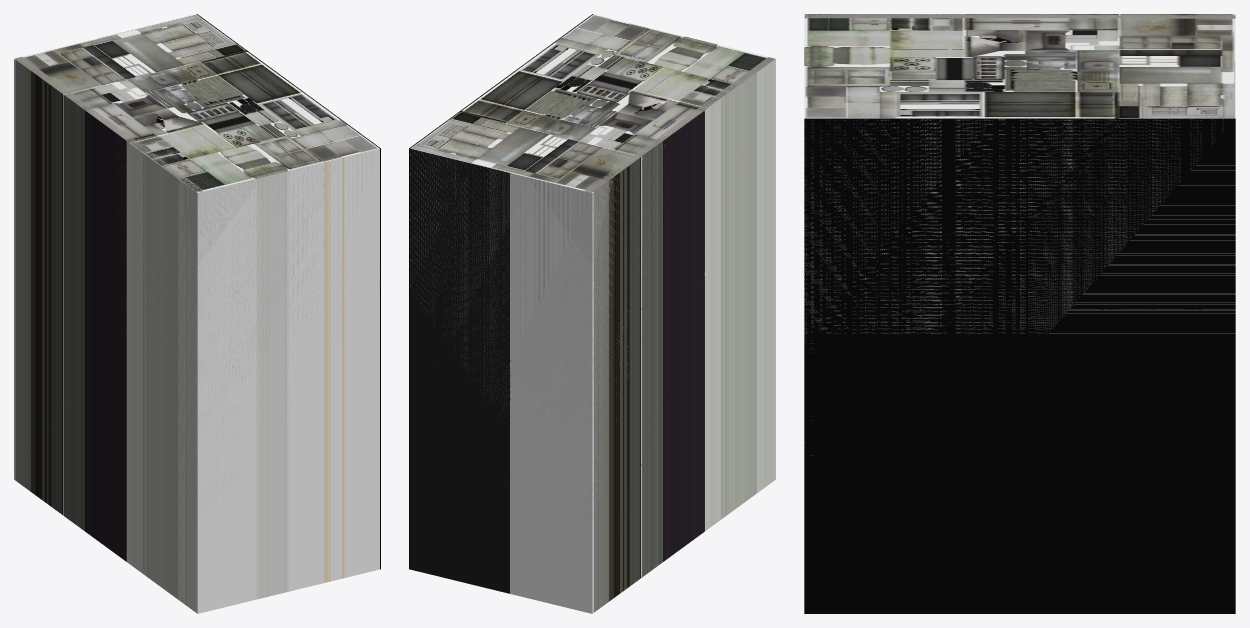
File: counter_top_04.DAE
The picture shows the model from 3 angles, left to right: view 1: azimuth 30°, elevation 25°; view 2: azimuth 150°, elevation 25°; view 3: azimuth 270°, elevation 25°; orthographic projection. The views are drawn at different scales.
Parts seen in each view (by area): view 1: colbox-1, bounds, counter_top_four100; view 2: colbox-1, bounds, counter_top_four100; view 3: colbox-1, bounds, counter_top_four100.
Boxes of the visible parts, x1,y1,x2,y2 form: colbox-1: (14,14,380,613); bounds: (129,145,370,520); counter_top_four100: (15,57,203,192); colbox-1: (409,14,775,613); bounds: (410,144,664,536); counter_top_four100: (585,57,774,192); colbox-1: (804,14,1235,613); bounds: (804,119,1235,455); counter_top_four100: (804,14,1235,18).
Size of the model in its own units: 52.9 by 91.8 by 116.
